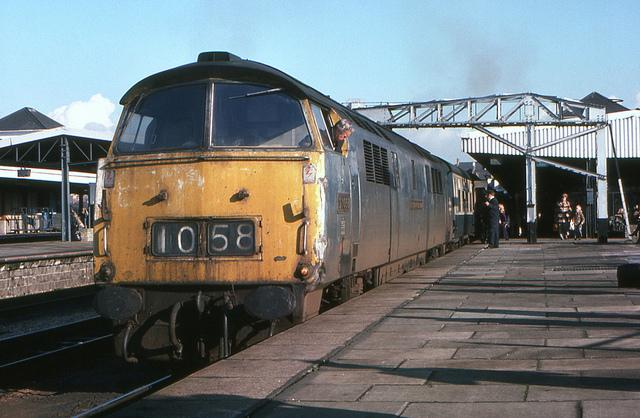Train: (91, 49, 493, 367)
